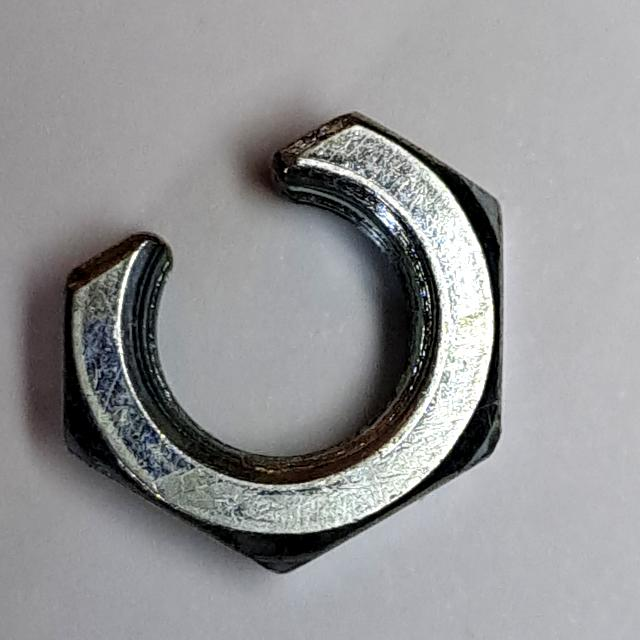Fracture: (50, 96, 524, 592)
